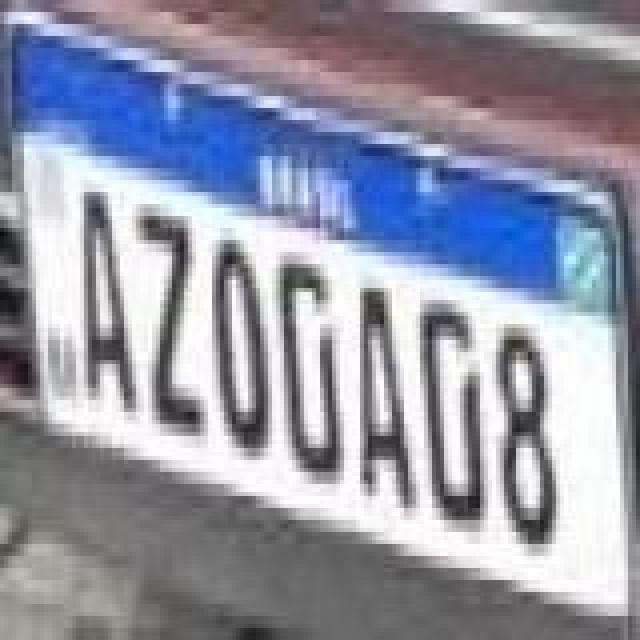8: (496, 322, 560, 550)
A: (82, 184, 142, 416), (356, 284, 412, 516)
D: (420, 298, 492, 534), (278, 254, 346, 482)
O: (210, 230, 270, 458)
Z: (132, 202, 204, 438)
